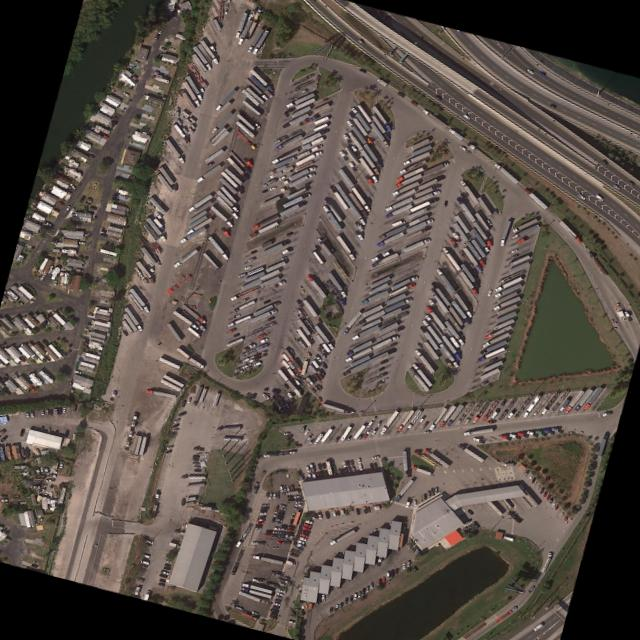large-vehicle: (214, 189, 239, 213), (411, 449, 440, 469), (224, 157, 248, 181), (557, 220, 581, 244), (421, 447, 448, 468), (455, 443, 483, 463), (170, 310, 198, 330), (248, 69, 272, 92), (208, 205, 233, 227), (127, 288, 149, 313), (442, 320, 464, 345), (521, 187, 546, 209), (492, 162, 517, 184), (179, 310, 205, 331), (179, 303, 205, 324), (471, 221, 492, 247), (219, 171, 242, 194), (209, 111, 232, 134), (214, 196, 237, 219), (515, 483, 537, 507), (248, 76, 272, 98), (243, 78, 267, 100), (247, 221, 278, 238), (410, 362, 431, 387), (439, 335, 460, 360), (344, 119, 365, 144), (358, 149, 379, 174), (581, 386, 602, 411), (369, 114, 389, 140), (420, 108, 446, 128), (194, 163, 220, 183), (171, 248, 197, 268), (454, 196, 474, 222), (420, 319, 441, 343), (413, 349, 434, 373), (407, 367, 428, 391), (206, 236, 227, 260), (346, 192, 367, 216), (144, 217, 165, 241), (133, 260, 154, 284), (449, 300, 470, 324), (304, 274, 325, 298), (312, 325, 333, 349), (562, 389, 583, 413), (437, 343, 457, 368), (418, 325, 438, 350), (320, 205, 340, 230), (361, 143, 381, 168), (368, 122, 388, 147), (370, 106, 390, 131), (357, 157, 377, 182), (349, 186, 369, 211), (322, 197, 342, 222), (191, 45, 211, 70), (163, 139, 183, 164), (334, 235, 354, 260), (461, 247, 481, 272), (434, 268, 454, 293), (325, 272, 345, 297), (443, 403, 463, 428), (378, 410, 398, 435), (283, 92, 314, 108), (328, 184, 347, 210), (213, 88, 235, 110), (340, 311, 361, 334), (380, 303, 410, 319), (374, 325, 404, 341), (349, 107, 369, 131), (345, 201, 365, 225), (198, 40, 218, 64), (157, 167, 177, 191), (458, 180, 478, 204), (464, 242, 484, 266), (424, 305, 444, 329), (520, 394, 540, 418), (286, 171, 314, 188), (184, 217, 212, 234), (180, 81, 199, 106), (186, 193, 211, 212), (428, 288, 447, 313), (236, 590, 267, 605), (509, 223, 538, 239), (249, 214, 278, 230), (280, 192, 309, 208), (374, 231, 403, 247), (369, 334, 398, 350), (392, 479, 412, 502), (178, 226, 205, 243), (122, 307, 141, 331), (470, 228, 489, 252), (440, 247, 459, 271), (458, 271, 477, 295), (452, 293, 471, 317), (367, 347, 395, 363), (269, 148, 297, 164), (277, 200, 305, 216), (293, 150, 321, 166), (273, 134, 301, 150), (383, 196, 411, 212), (350, 324, 378, 340), (250, 29, 267, 55), (423, 314, 442, 337), (436, 405, 455, 428), (427, 407, 446, 430), (397, 159, 426, 174), (475, 347, 504, 362), (482, 324, 511, 339), (492, 283, 521, 298), (228, 286, 257, 301), (410, 189, 439, 204), (408, 197, 437, 212), (382, 297, 411, 312), (510, 217, 537, 233), (287, 165, 314, 181), (343, 346, 370, 362), (184, 75, 201, 100), (403, 225, 431, 240), (480, 332, 508, 347), (491, 296, 519, 311), (493, 276, 521, 291), (341, 361, 369, 376), (251, 301, 279, 316), (261, 239, 289, 254), (280, 113, 308, 128), (390, 181, 418, 196), (393, 173, 421, 188), (394, 167, 422, 182), (404, 218, 432, 233), (401, 237, 429, 252), (389, 275, 417, 290), (383, 203, 411, 218), (369, 252, 397, 267), (356, 310, 384, 325), (235, 19, 251, 45), (328, 529, 354, 545), (573, 388, 591, 411), (245, 28, 262, 52), (376, 225, 405, 239), (358, 290, 387, 304), (416, 175, 443, 190), (387, 282, 414, 297), (344, 340, 371, 355), (395, 409, 413, 431), (478, 340, 506, 354), (248, 308, 276, 322), (401, 151, 429, 165), (412, 183, 440, 197), (299, 129, 325, 144), (321, 403, 353, 415), (421, 161, 448, 175), (376, 319, 401, 334), (239, 587, 270, 599), (240, 582, 271, 594), (171, 123, 189, 143), (233, 12, 246, 38), (497, 220, 510, 246), (251, 554, 281, 565), (225, 314, 250, 327), (405, 409, 421, 429), (595, 431, 607, 457), (144, 389, 175, 399), (315, 237, 331, 256), (461, 427, 492, 436), (400, 450, 410, 477), (231, 300, 254, 311), (539, 551, 551, 572), (259, 195, 279, 207), (446, 127, 463, 141), (190, 385, 201, 406), (318, 427, 332, 443), (410, 465, 430, 475), (351, 424, 364, 439), (338, 425, 350, 441), (187, 357, 203, 368), (185, 326, 199, 338), (556, 398, 568, 412), (42, 483, 54, 496), (174, 347, 188, 358), (281, 348, 292, 361), (290, 359, 300, 372), (214, 426, 239, 431), (311, 433, 322, 444), (267, 170, 281, 178), (179, 475, 204, 479), (531, 622, 542, 631), (285, 367, 294, 378), (283, 559, 294, 567), (374, 556, 381, 566), (284, 490, 297, 495), (294, 539, 304, 545), (293, 542, 303, 548), (288, 552, 298, 558), (296, 536, 306, 542), (297, 533, 307, 539), (323, 510, 329, 519), (301, 522, 310, 528), (300, 525, 309, 531), (307, 464, 313, 473), (368, 528, 376, 534), (292, 546, 301, 551), (199, 506, 210, 510), (361, 506, 366, 514), (354, 507, 359, 515), (316, 511, 321, 519), (274, 515, 283, 519), (466, 508, 472, 514), (277, 506, 284, 511), (274, 517, 281, 522), (289, 512, 294, 519), (271, 510, 276, 517), (269, 516, 274, 523), (279, 523, 286, 528), (330, 510, 335, 517), (287, 524, 294, 529), (303, 520, 311, 524), (278, 527, 286, 531), (283, 534, 291, 538), (276, 533, 284, 537), (273, 505, 278, 511), (287, 438, 293, 443), (364, 506, 369, 512), (334, 509, 339, 515), (277, 509, 284, 513), (271, 530, 278, 534), (272, 526, 279, 530), (278, 504, 285, 508), (276, 512, 283, 516), (286, 528, 293, 532), (273, 520, 280, 524), (401, 562, 405, 569), (432, 487, 436, 494), (425, 490, 429, 497), (286, 531, 293, 535), (257, 512, 265, 515), (252, 527, 260, 530), (288, 518, 292, 524), (405, 560, 409, 566), (309, 513, 313, 519), (278, 531, 286, 534), (270, 533, 276, 537), (257, 518, 264, 521), (250, 541, 257, 544), (264, 530, 271, 533), (259, 509, 266, 512), (258, 515, 264, 518), (256, 521, 262, 524), (254, 524, 260, 527), (258, 541, 264, 544), (261, 506, 267, 509), (422, 493, 425, 499), (412, 500, 415, 506), (283, 540, 289, 543), (263, 533, 270, 535), (275, 541, 282, 543)
ship: (259, 392, 269, 401), (33, 488, 44, 495), (18, 448, 24, 456)
small-vehicle: (375, 78, 387, 87), (593, 193, 603, 201), (458, 192, 467, 200), (62, 204, 70, 213), (507, 605, 516, 613), (417, 414, 426, 422), (369, 426, 377, 435), (575, 193, 585, 200), (226, 326, 236, 333), (319, 360, 327, 368), (77, 195, 85, 203), (460, 113, 469, 120), (457, 144, 466, 151), (295, 298, 302, 307), (395, 90, 404, 97), (152, 33, 159, 42), (378, 358, 388, 364), (377, 371, 387, 377), (176, 410, 186, 416), (600, 159, 608, 166), (313, 354, 320, 362), (246, 255, 254, 262), (156, 27, 163, 35), (121, 91, 129, 98), (484, 288, 491, 296), (488, 356, 496, 363), (374, 419, 381, 427), (301, 429, 309, 436), (299, 424, 306, 432), (611, 184, 620, 190), (524, 68, 533, 74), (408, 100, 417, 106), (236, 272, 245, 278), (255, 332, 264, 338), (258, 337, 267, 343), (85, 153, 94, 159), (314, 74, 320, 83), (388, 341, 397, 347), (41, 220, 50, 226), (268, 607, 277, 613), (138, 559, 147, 565), (232, 366, 241, 372), (131, 411, 136, 421), (133, 577, 143, 582), (484, 218, 491, 225), (286, 347, 293, 354), (319, 352, 326, 359), (315, 317, 322, 324), (37, 274, 44, 281), (66, 378, 73, 385), (141, 277, 148, 284), (421, 420, 428, 427), (364, 427, 371, 434), (365, 420, 372, 427), (360, 433, 367, 440), (292, 378, 299, 385), (281, 382, 288, 389), (332, 435, 339, 442), (547, 102, 555, 108), (537, 70, 545, 76), (356, 39, 364, 45), (262, 298, 270, 304), (320, 349, 328, 355), (266, 315, 274, 321), (259, 349, 267, 355), (284, 230, 292, 236), (276, 175, 284, 181), (205, 161, 213, 167), (479, 379, 487, 385), (376, 365, 384, 371), (527, 585, 533, 593), (140, 553, 148, 559), (57, 460, 63, 468), (314, 383, 322, 389), (179, 399, 185, 407), (315, 462, 321, 470), (164, 444, 172, 450), (266, 615, 275, 620), (143, 540, 152, 545), (157, 573, 166, 578), (158, 570, 167, 575), (485, 419, 494, 424), (627, 180, 634, 186), (434, 94, 441, 100), (241, 296, 248, 302), (68, 183, 75, 189), (252, 122, 259, 128), (375, 379, 382, 385), (415, 341, 421, 348), (0, 435, 6, 442), (51, 280, 57, 287), (332, 604, 338, 611), (27, 385, 34, 391), (136, 273, 143, 279), (522, 469, 528, 476), (185, 396, 191, 403), (544, 493, 550, 500), (526, 473, 532, 480), (356, 433, 363, 439), (305, 433, 311, 440), (263, 491, 269, 498), (248, 249, 256, 254), (231, 332, 239, 337), (379, 376, 387, 381), (299, 88, 307, 93), (304, 73, 312, 78), (267, 185, 275, 190), (131, 60, 139, 65), (98, 232, 106, 237), (337, 601, 342, 609), (388, 568, 393, 576), (18, 428, 23, 436), (29, 563, 37, 568), (138, 563, 146, 568), (157, 578, 165, 583), (249, 610, 257, 615), (51, 408, 56, 416), (252, 361, 260, 366), (502, 462, 512, 466), (170, 427, 178, 432), (210, 508, 218, 513), (447, 226, 453, 232), (68, 207, 74, 213), (287, 484, 293, 490), (309, 472, 315, 478), (44, 478, 53, 482), (309, 387, 315, 393), (312, 385, 318, 391), (282, 402, 288, 408), (276, 406, 282, 412), (273, 401, 279, 407), (316, 373, 322, 379), (549, 501, 555, 507), (537, 487, 543, 493), (529, 477, 535, 483), (345, 434, 351, 440), (307, 438, 313, 444), (276, 470, 285, 474), (509, 248, 516, 253), (242, 265, 249, 270), (260, 352, 267, 357), (88, 205, 95, 210), (101, 134, 108, 139), (358, 68, 365, 73), (260, 188, 267, 193), (158, 46, 165, 51), (222, 8, 227, 15), (269, 611, 276, 616), (327, 606, 332, 613), (342, 597, 347, 604), (271, 604, 278, 609), (244, 365, 251, 370), (232, 371, 239, 376), (240, 363, 247, 368), (247, 358, 254, 363), (241, 357, 248, 362), (252, 352, 259, 357), (28, 410, 33, 417), (63, 429, 68, 436), (70, 433, 75, 440), (110, 196, 117, 201), (134, 267, 139, 274), (562, 514, 567, 521), (547, 497, 552, 504), (355, 457, 360, 464), (357, 463, 362, 470), (344, 459, 349, 466), (346, 466, 351, 473), (320, 462, 325, 469), (322, 469, 327, 476), (172, 418, 179, 423), (171, 422, 178, 427), (164, 449, 171, 454), (303, 465, 308, 472), (267, 492, 272, 499), (278, 256, 286, 260), (163, 559, 171, 563), (84, 323, 92, 327), (24, 410, 28, 418), (74, 268, 82, 272), (281, 431, 289, 435), (293, 443, 301, 447), (510, 253, 516, 258), (442, 200, 447, 206), (317, 343, 322, 349), (347, 595, 352, 601), (351, 593, 356, 599), (492, 208, 497, 214), (498, 401, 504, 406), (121, 330, 127, 335), (53, 429, 58, 435), (238, 368, 244, 373), (38, 409, 43, 415), (60, 407, 65, 413), (316, 396, 321, 402), (314, 376, 320, 381), (541, 491, 546, 497), (350, 466, 355, 472), (305, 473, 310, 479), (313, 471, 318, 477), (320, 97, 327, 101), (286, 497, 293, 501), (286, 620, 293, 624), (278, 582, 285, 586), (356, 590, 360, 597), (376, 578, 380, 585), (368, 582, 372, 589), (364, 585, 368, 592), (360, 587, 364, 594), (271, 602, 278, 606), (273, 598, 280, 602), (143, 543, 150, 547), (157, 582, 164, 586), (162, 566, 169, 570), (162, 563, 169, 567), (275, 592, 282, 596), (274, 595, 281, 599), (253, 355, 260, 359), (247, 355, 254, 359), (72, 370, 79, 374), (251, 359, 258, 363), (86, 313, 93, 317), (422, 430, 429, 434), (370, 455, 377, 459), (368, 462, 372, 469), (341, 460, 345, 467), (336, 468, 340, 475), (274, 492, 278, 499), (192, 468, 199, 472), (192, 454, 199, 458), (180, 498, 184, 505), (262, 453, 269, 457), (232, 314, 238, 318), (312, 83, 316, 89), (224, 2, 228, 8), (294, 500, 300, 504), (294, 503, 300, 507), (393, 568, 397, 574), (380, 576, 384, 582), (277, 589, 283, 593), (292, 494, 298, 498), (235, 360, 241, 364), (342, 467, 346, 473), (553, 504, 557, 510), (190, 458, 196, 462), (190, 462, 198, 465), (278, 485, 282, 491), (281, 485, 285, 491), (77, 241, 84, 244), (293, 498, 300, 501), (385, 572, 388, 579), (320, 594, 323, 601), (285, 495, 292, 498), (372, 462, 375, 469), (192, 465, 199, 468), (287, 451, 294, 454), (260, 503, 267, 506), (39, 426, 43, 431), (271, 493, 275, 498), (0, 499, 6, 502), (0, 494, 6, 497), (38, 466, 41, 472), (46, 427, 49, 433), (349, 459, 352, 465), (285, 434, 291, 437), (285, 485, 288, 491), (310, 0, 314, 2)
